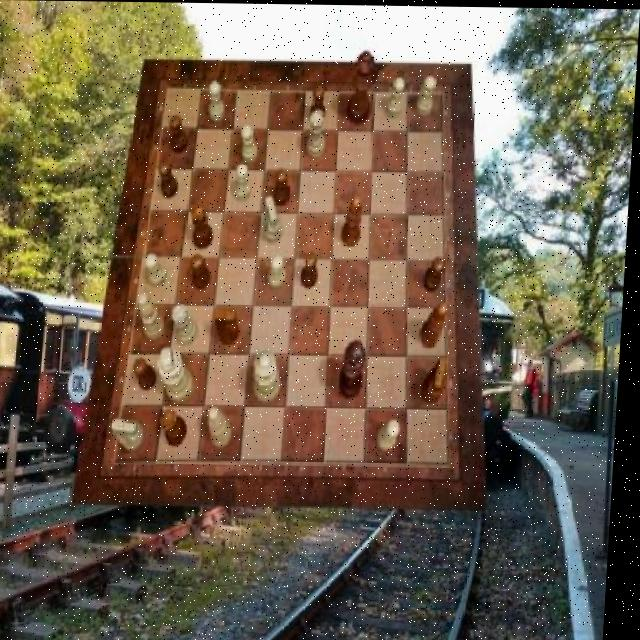bishop: (423, 301, 452, 347), (343, 195, 365, 246)
black-bishop: (345, 338, 372, 399)
black-king: (426, 356, 451, 402), (217, 309, 245, 344)
black-knight: (170, 114, 192, 153), (160, 159, 182, 197), (137, 359, 163, 391), (425, 255, 448, 291), (194, 253, 216, 288), (310, 84, 328, 124), (304, 252, 322, 288), (277, 168, 294, 206)
black-pawn: (348, 49, 376, 123)
black-queen: (192, 204, 218, 249), (164, 408, 193, 446)
black-rook: (141, 293, 171, 340), (212, 406, 238, 448)
white-bishop: (160, 347, 200, 403)
white-king: (116, 418, 152, 451), (266, 196, 288, 242)
white-knight: (147, 252, 171, 287), (382, 418, 407, 451), (387, 75, 406, 117), (417, 74, 436, 116), (208, 81, 227, 121), (242, 125, 261, 163), (237, 163, 255, 201), (271, 254, 291, 288)
white-pawn: (257, 348, 287, 402)
white-queen: (175, 304, 203, 346), (308, 110, 328, 158)
